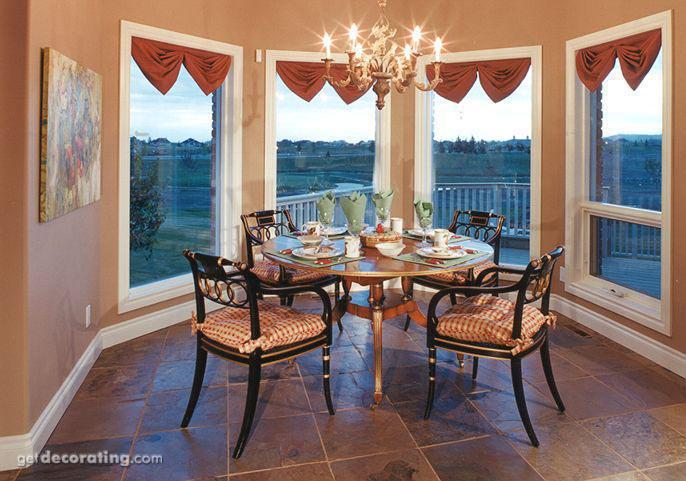Ventana: (124, 33, 245, 302), (570, 38, 668, 324), (421, 53, 539, 268), (273, 55, 383, 224)
